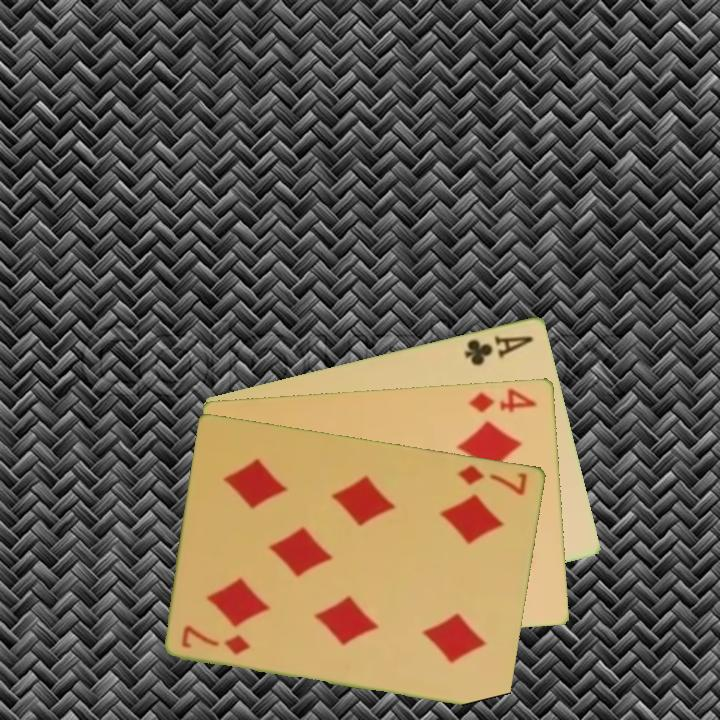4d: (465, 385, 541, 415)
7d: (454, 461, 530, 498), (178, 621, 254, 657)
Ac: (461, 332, 537, 368)
